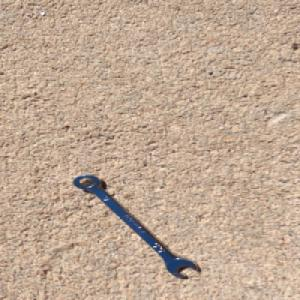Wrench: (70, 173, 201, 279)
